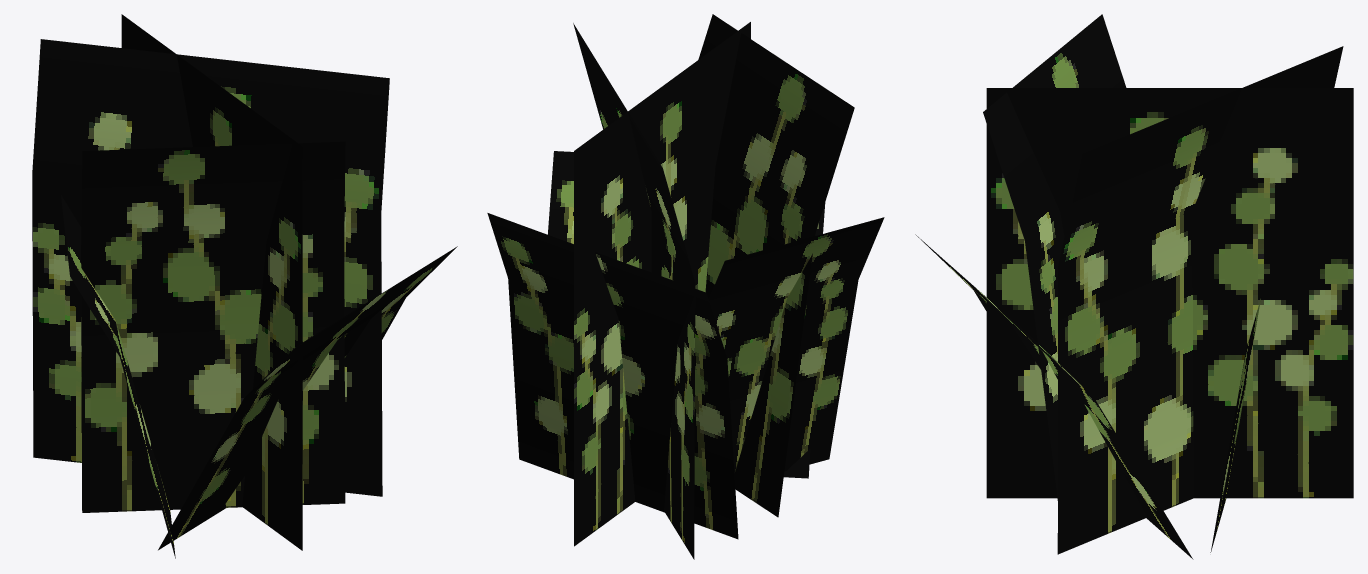
File: Mini_Plant_1.gltf
The picture shows the model from 3 angles, left to right: view 1: azimuth 30°, elevation 25°; view 2: azimuth 150°, elevation 25°; view 3: azimuth 270°, elevation 25°; orthographic projection. The views are drawn at different scales.
Parts seen in each view (by area): view 1: Mini_Plant_1; view 2: Mini_Plant_1; view 3: Mini_Plant_1.
Boxes of the visible parts, x1,y1,x2,y2 form: Mini_Plant_1: [32, 14, 457, 558]; Mini_Plant_1: [487, 14, 884, 559]; Mini_Plant_1: [915, 14, 1353, 559].
Bounding box in the file's own units: 12.41 × 13.43 × 12.84.
Materials: 1 (1 with a texture image).
